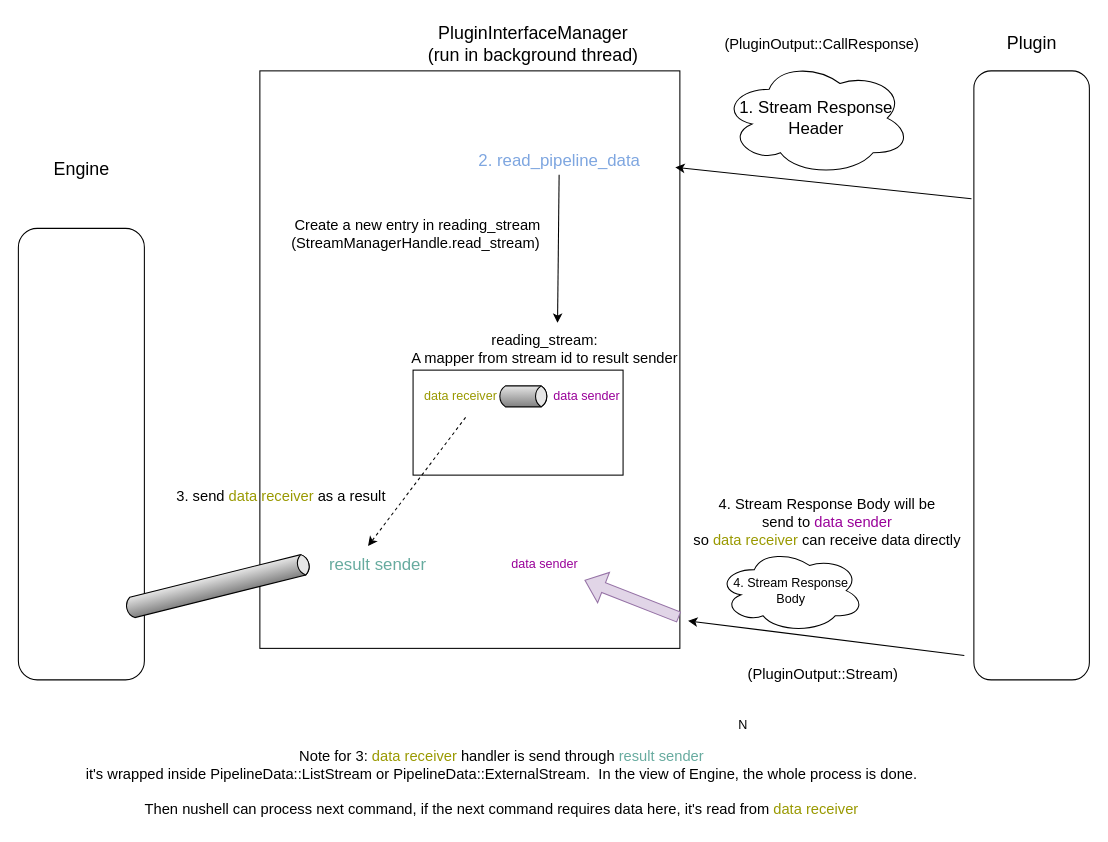
The diagram is 1108 pixels wide and 842 high, and some of its shapes have lost their labels. Here are the shapes that lost their labels. From the top down, the centre of each, then its label:
point 80,453: result receiver
point 217,585: plugin call result channel
